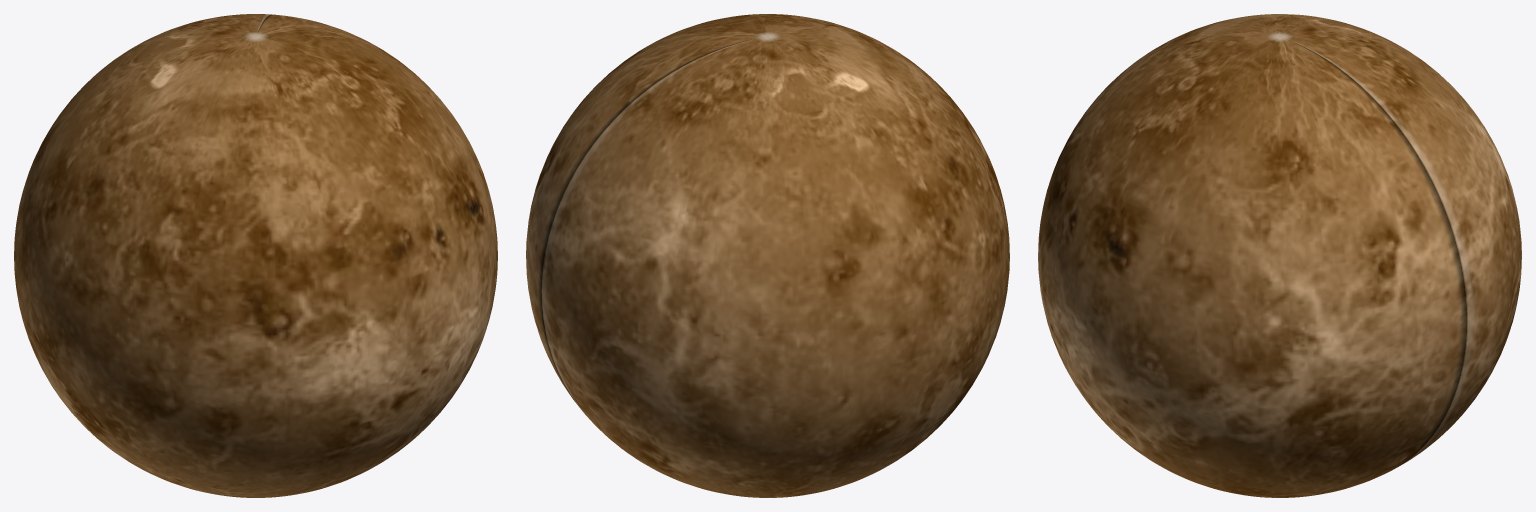
File: venus2.FBX
The picture shows the model from 3 angles, left to right: view 1: azimuth 30°, elevation 25°; view 2: azimuth 150°, elevation 25°; view 3: azimuth 270°, elevation 25°; orthographic projection.
Visible parts, largest first — view 1: Atmosphere; view 2: Atmosphere; view 3: Atmosphere.
Part boxes in pixels (x1,y1,x2,y2): Atmosphere: [14, 14, 497, 497]; Atmosphere: [526, 14, 1009, 497]; Atmosphere: [1038, 14, 1521, 497].
Bounding box in the file's own units: 148 × 148 × 148.
Materials: 1 (1 with a texture image).
